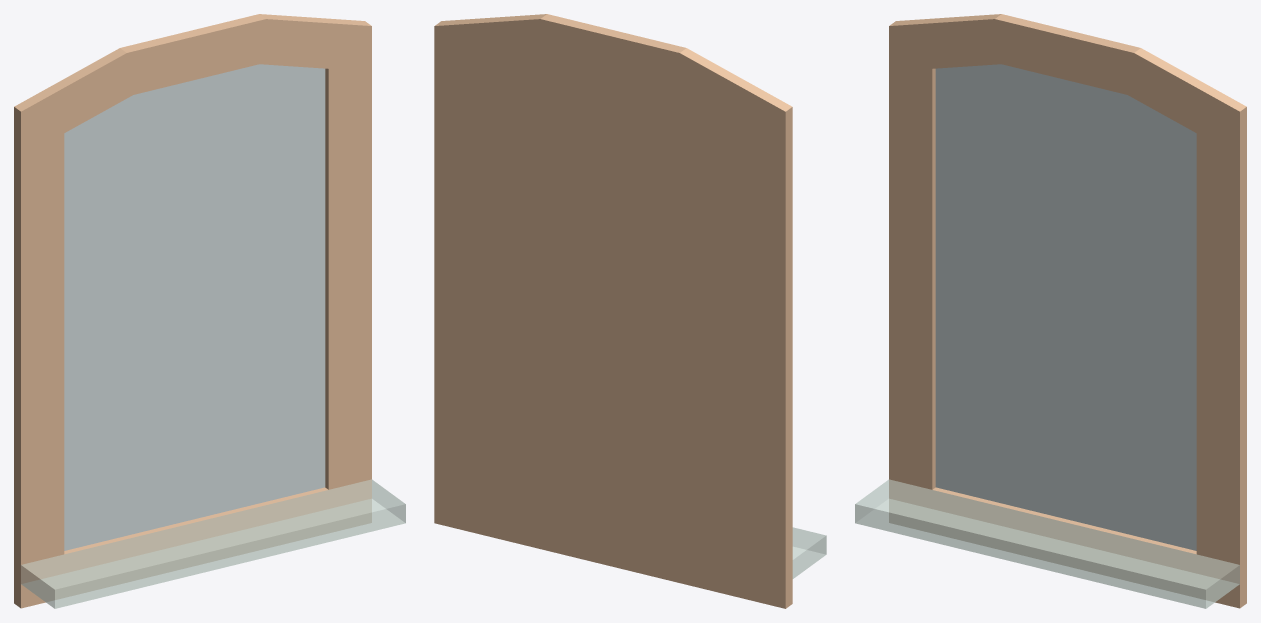
File: shop_mirror_wall.glb
The picture shows the model from 3 angles, left to right: view 1: azimuth 30°, elevation 25°; view 2: azimuth 150°, elevation 25°; view 3: azimuth 330°, elevation 25°; orthographic projection.
Parts seen in each view (by area): view 1: Prop_01_01_Mesh_bathroomMirror_1, Prop_00_00_Mesh_bathroomMirror, Prop_02_02_Mesh_bathroomMirror_2; view 2: Prop_00_00_Mesh_bathroomMirror, Prop_02_02_Mesh_bathroomMirror_2; view 3: Prop_01_01_Mesh_bathroomMirror_1, Prop_00_00_Mesh_bathroomMirror, Prop_02_02_Mesh_bathroomMirror_2.
Part boxes in pixels (bbox=[...]): Prop_01_01_Mesh_bathroomMirror_1: bbox=[64, 64, 325, 550]; Prop_00_00_Mesh_bathroomMirror: bbox=[14, 14, 371, 608]; Prop_02_02_Mesh_bathroomMirror_2: bbox=[21, 479, 405, 608]; Prop_00_00_Mesh_bathroomMirror: bbox=[434, 14, 792, 608]; Prop_02_02_Mesh_bathroomMirror_2: bbox=[792, 527, 826, 578]; Prop_01_01_Mesh_bathroomMirror_1: bbox=[935, 64, 1196, 550]; Prop_00_00_Mesh_bathroomMirror: bbox=[889, 14, 1246, 608]; Prop_02_02_Mesh_bathroomMirror_2: bbox=[855, 479, 1239, 608].
Bounding box in the file's own units: 0.6101 × 0.88 × 0.1228.
